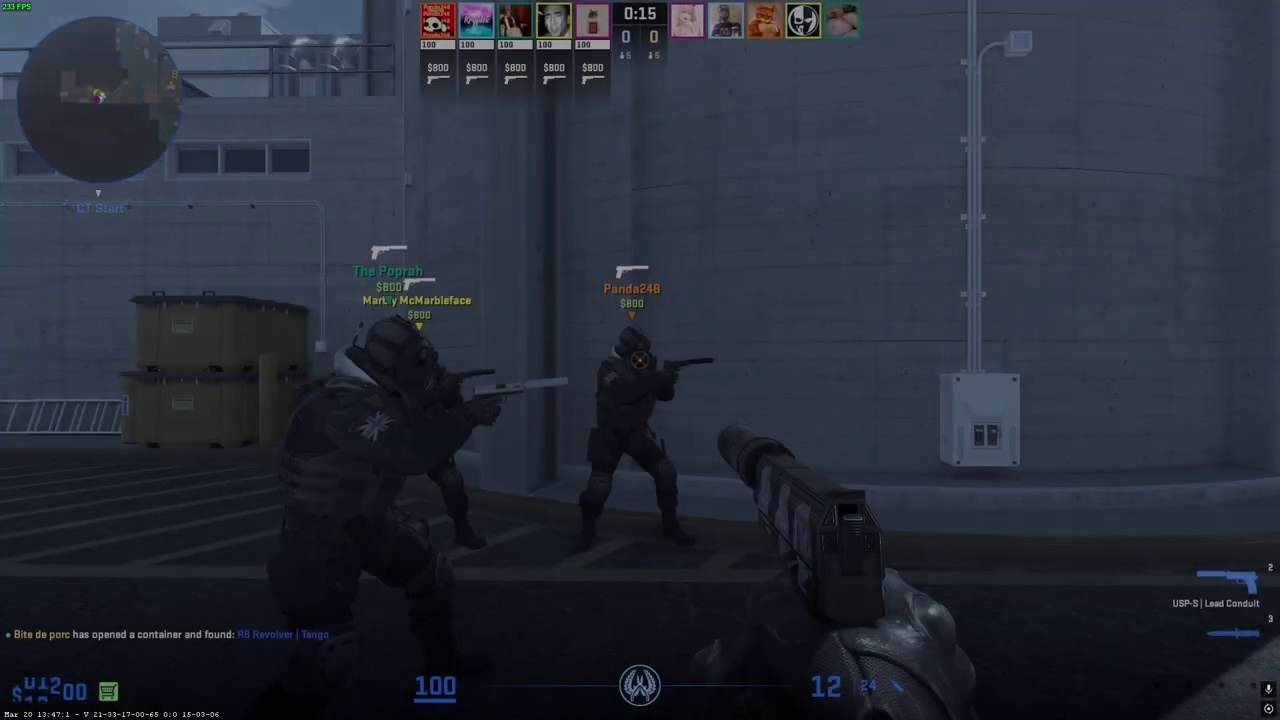CT: (269, 318, 487, 718), (578, 328, 680, 550)
